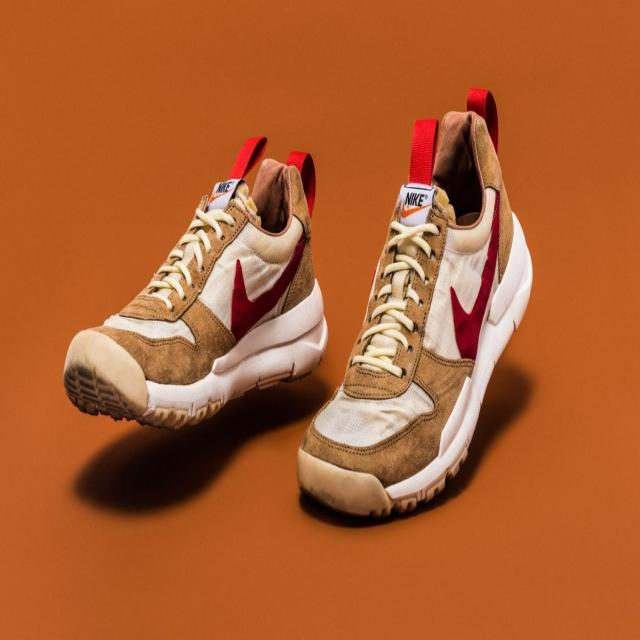shoe: (294, 55, 566, 582), (77, 86, 349, 510)
